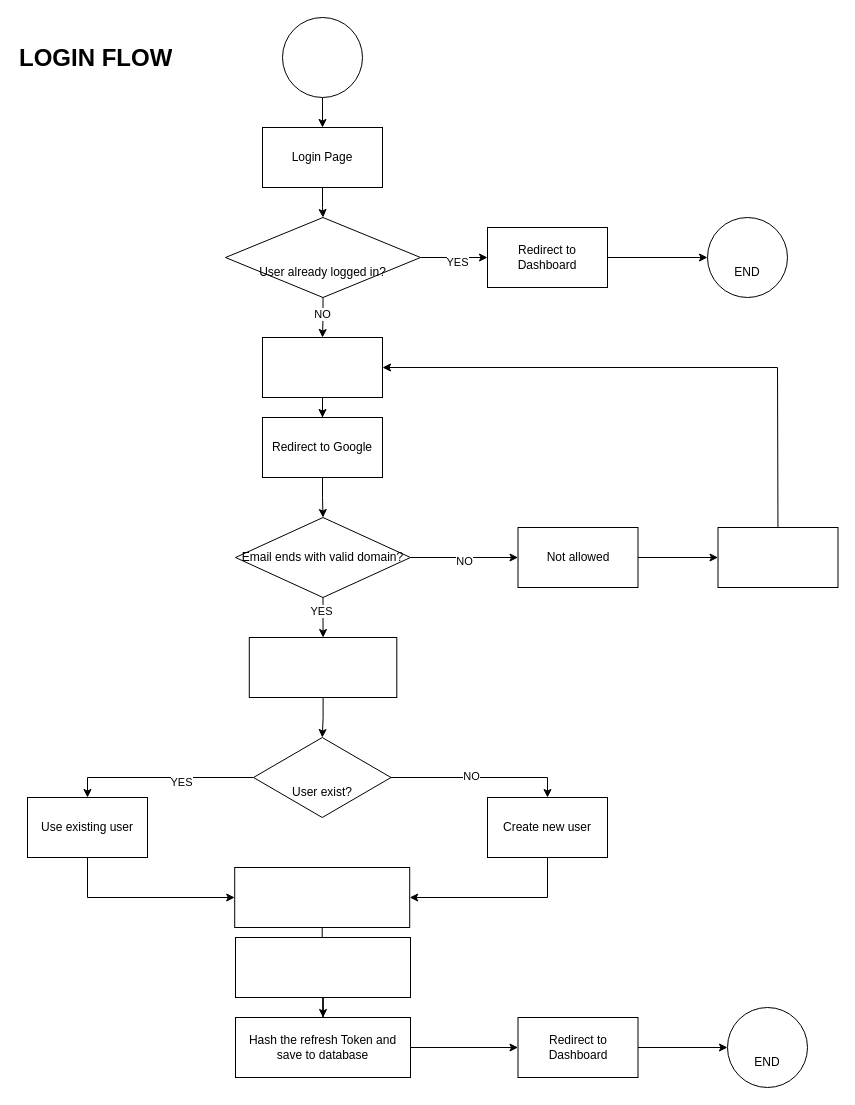
This 855x1105 diagram has some shape labels left out. The centre of each missing label's shape, as x and y in pixels:
Back to login page: point (777, 557)
Create Access Token: point (322, 897)
Create Refresh Token: point (322, 967)
Find user in Database: point (322, 667)
Sign in with Google: point (322, 367)
START: point (322, 57)
